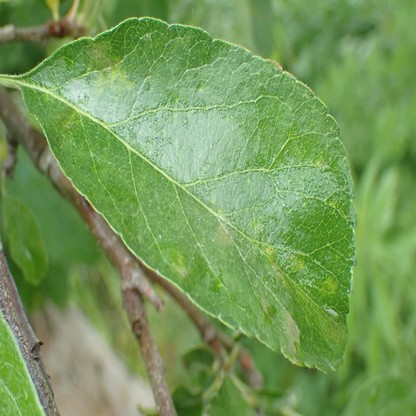scab: (297, 287, 346, 349), (91, 41, 128, 83), (281, 310, 301, 362), (167, 249, 188, 278), (216, 225, 232, 247), (62, 109, 77, 128), (291, 257, 307, 270), (325, 275, 337, 291), (261, 298, 268, 315), (271, 264, 280, 275), (268, 246, 273, 255)
